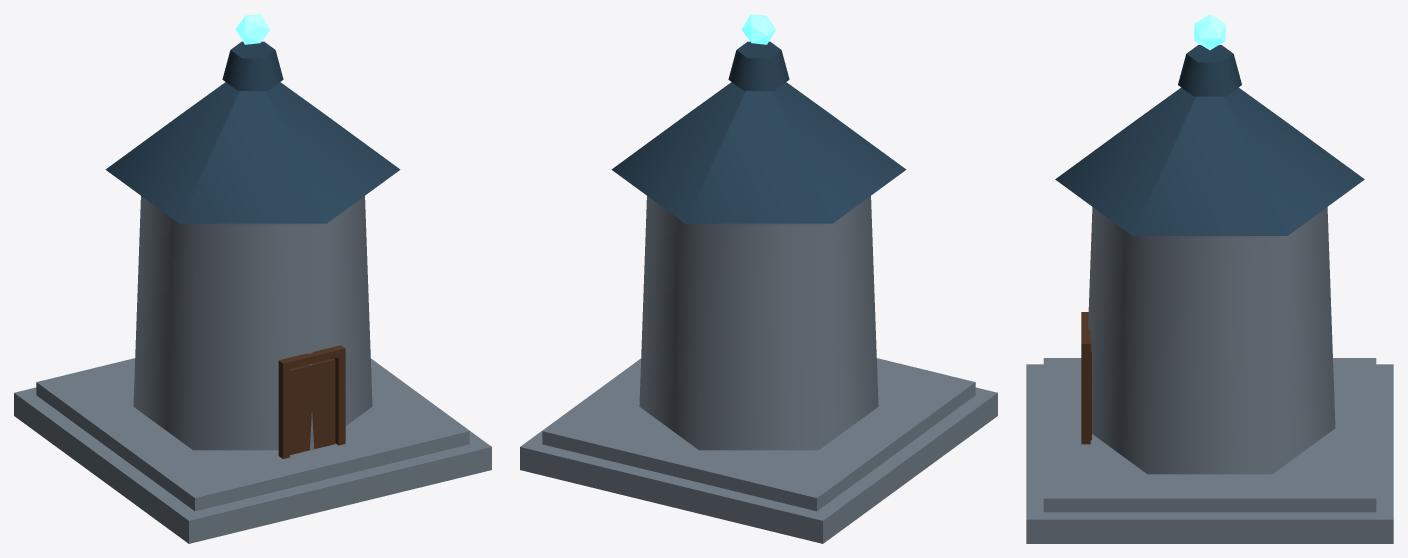
Rendered from archive-spire-lod2.glb.
3 views of the same model, side by side, from view 1: azimuth 30°, elevation 25°; view 2: azimuth 150°, elevation 25°; view 3: azimuth 270°, elevation 25° (orthographic). The views are drawn at different scales.
Visible parts, largest first — view 1: MESH_archive_spire_stone, MESH_archive_spire_roof, MESH_archive_spire_timber, MESH_archive_spire_beacon; view 2: MESH_archive_spire_stone, MESH_archive_spire_roof, MESH_archive_spire_beacon; view 3: MESH_archive_spire_stone, MESH_archive_spire_roof, MESH_archive_spire_timber, MESH_archive_spire_beacon.
Part boxes in pixels (x1,y1,x2,y2): MESH_archive_spire_stone: (14,196,491,543); MESH_archive_spire_roof: (105,41,400,223); MESH_archive_spire_timber: (278,345,345,458); MESH_archive_spire_beacon: (235,14,270,44); MESH_archive_spire_stone: (520,196,997,543); MESH_archive_spire_roof: (611,41,906,223); MESH_archive_spire_beacon: (741,14,776,44); MESH_archive_spire_stone: (1026,207,1393,543); MESH_archive_spire_roof: (1055,45,1364,235); MESH_archive_spire_timber: (1081,312,1091,444); MESH_archive_spire_beacon: (1194,14,1225,50).
Bounding box in the file's own units: 9.6 × 12.93 × 9.6.
